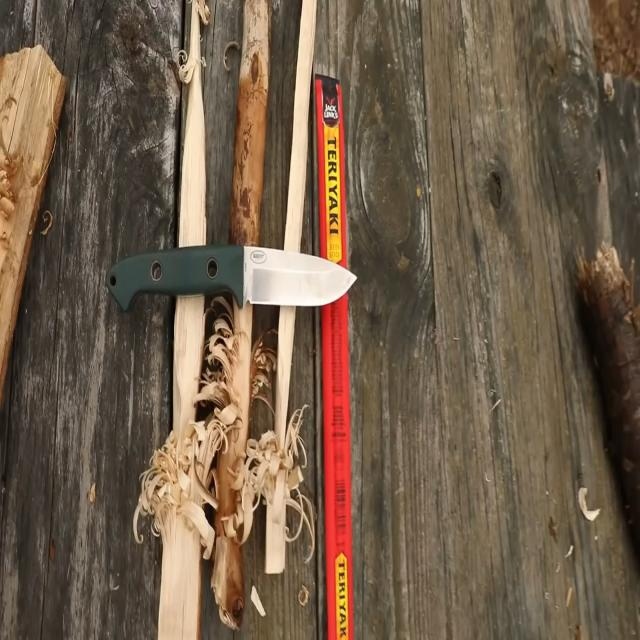knife: (105, 242, 361, 316)
